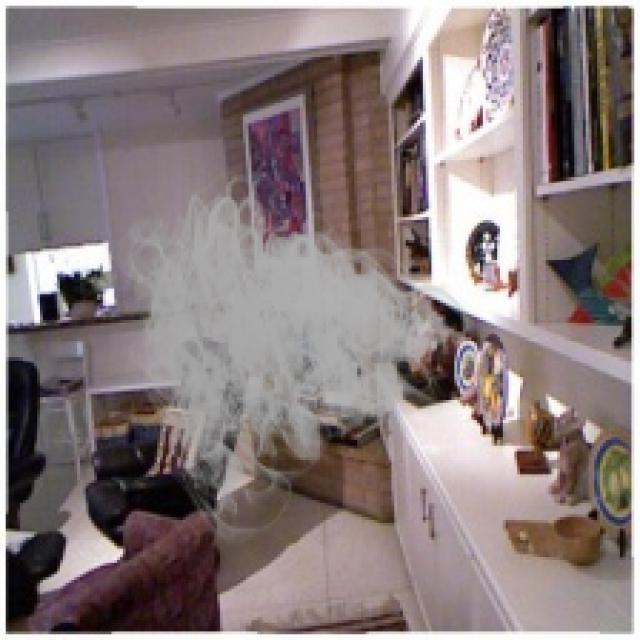smoke: (103, 160, 483, 549)
